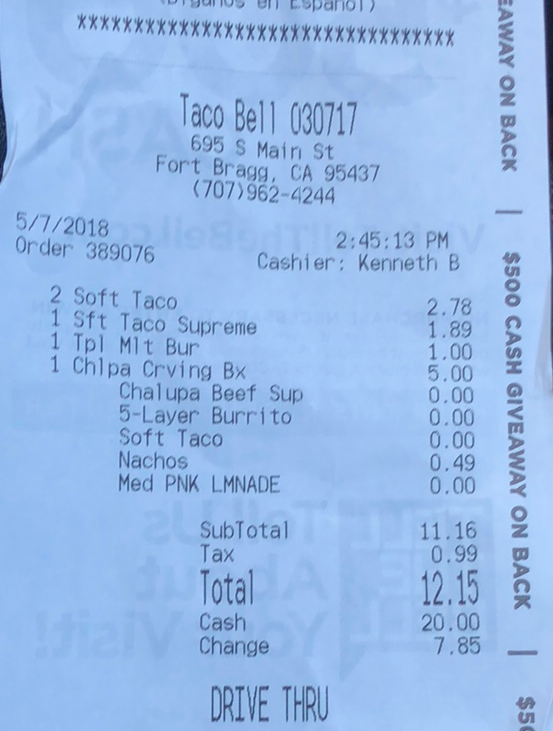Taco Bell: (171, 86, 281, 136)
